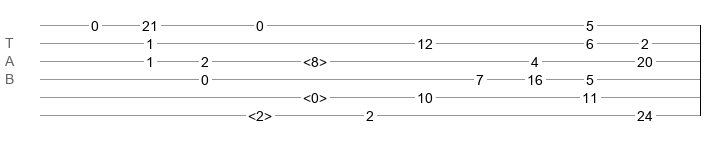0: (91, 18, 99, 28), (201, 72, 209, 82), (256, 18, 264, 28)
1: (146, 36, 154, 46), (146, 54, 154, 64)
10: (417, 90, 433, 100)
11: (582, 90, 598, 100)
12: (417, 36, 433, 46)
16: (527, 72, 543, 82)
2: (201, 54, 209, 64), (366, 108, 374, 118), (641, 36, 649, 46)
20: (637, 54, 653, 64)
21: (142, 18, 158, 28)
24: (637, 108, 653, 118)
4: (531, 54, 539, 64)
5: (586, 18, 594, 28), (586, 72, 594, 82)
6: (586, 36, 594, 46)
7: (476, 72, 484, 82)
harmonic: (248, 108, 272, 118), (303, 90, 327, 100), (303, 54, 327, 64)
